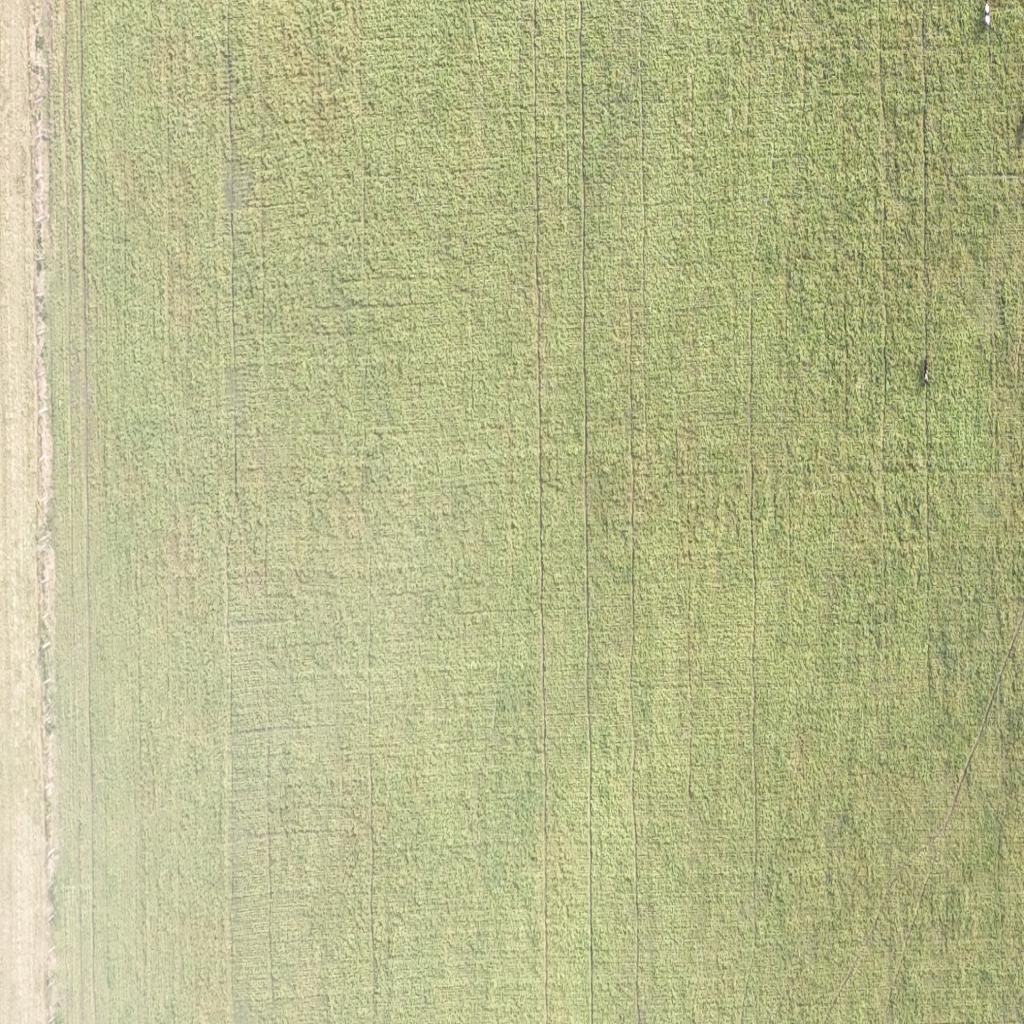cow: (982, 0, 994, 28), (921, 357, 930, 387)
